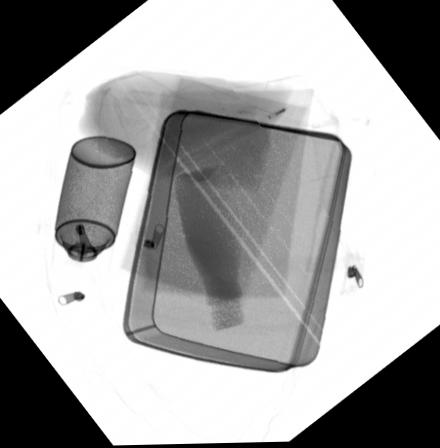Sprayer: (48, 135, 137, 285)
